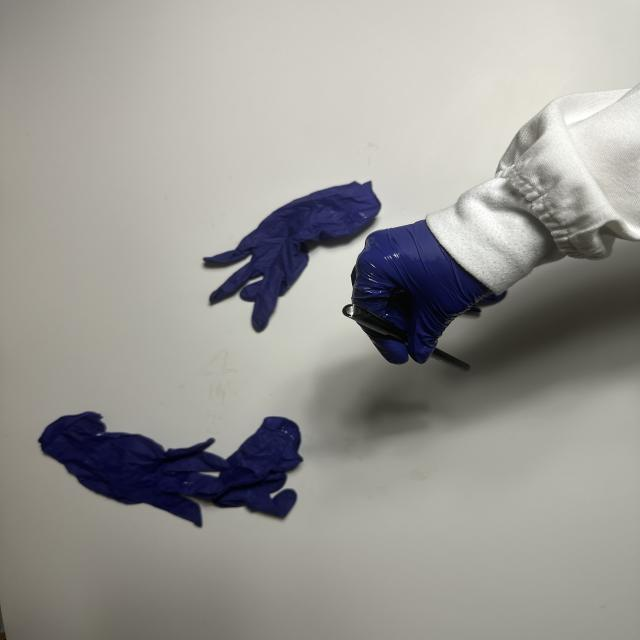gloves_contaminated: (351, 220, 489, 364)
